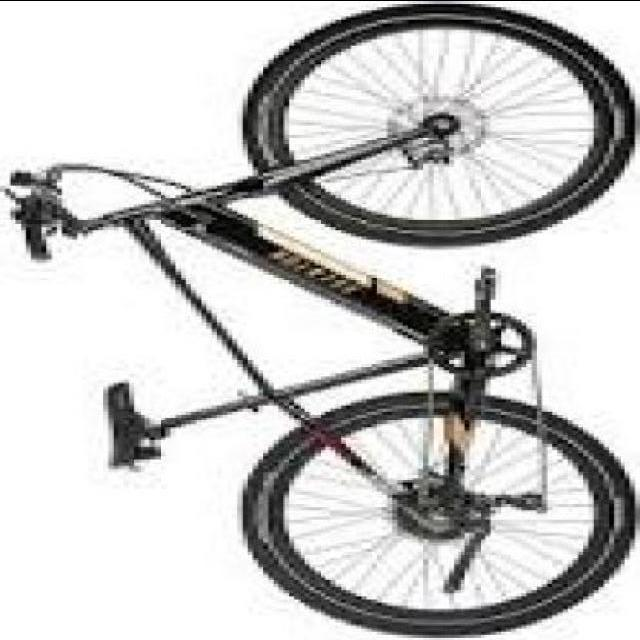bicycle: (1, 1, 640, 640)
